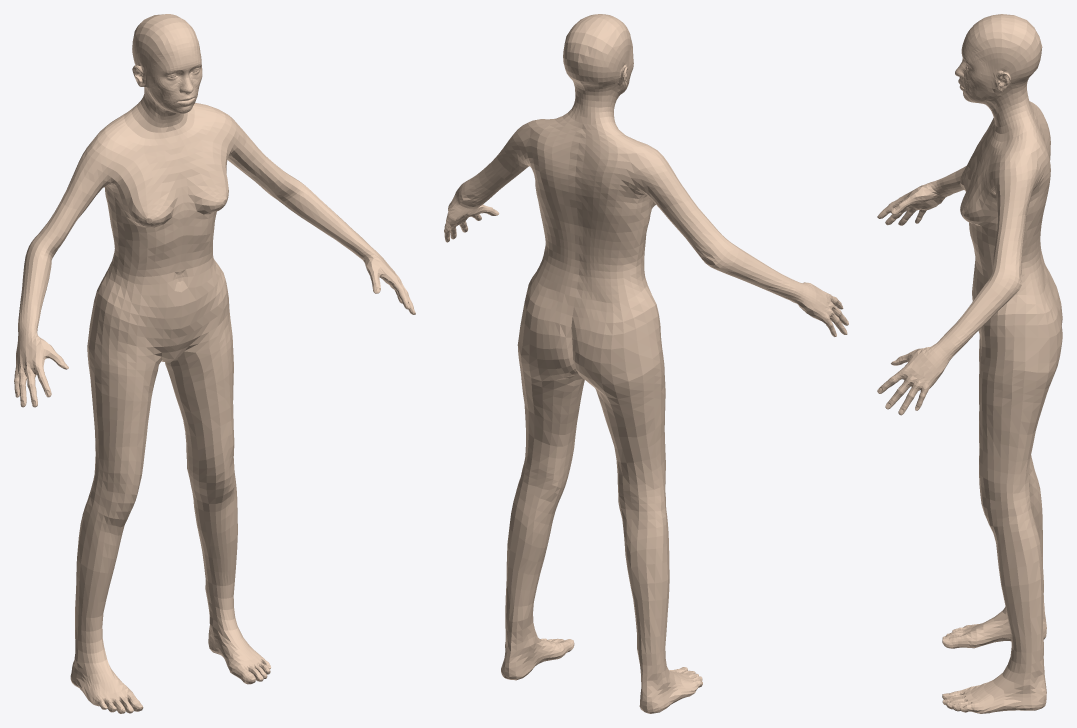
Rendered from female-mature-fit-low.glb.
3 views of the same model, side by side, from view 1: azimuth 30°, elevation 25°; view 2: azimuth 150°, elevation 25°; view 3: azimuth 270°, elevation 25° (orthographic).
Parts seen in each view (by area): view 1: world; view 2: world; view 3: world.
Boxes of the visible parts, left/top/right/bottom form: world: left=14, top=14, right=415, bottom=713; world: left=444, top=14, right=848, bottom=713; world: left=877, top=14, right=1062, bottom=713.
Size of the model in its own units: 1.12 by 1.81 by 0.4619.
